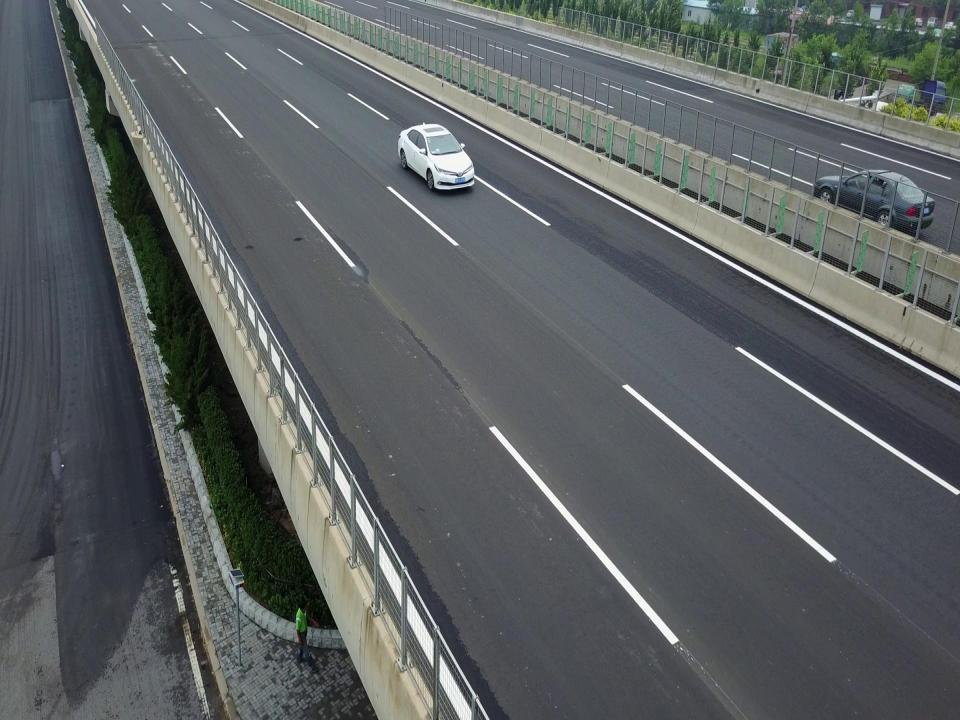car: (812, 170, 936, 231), (398, 122, 476, 193)
